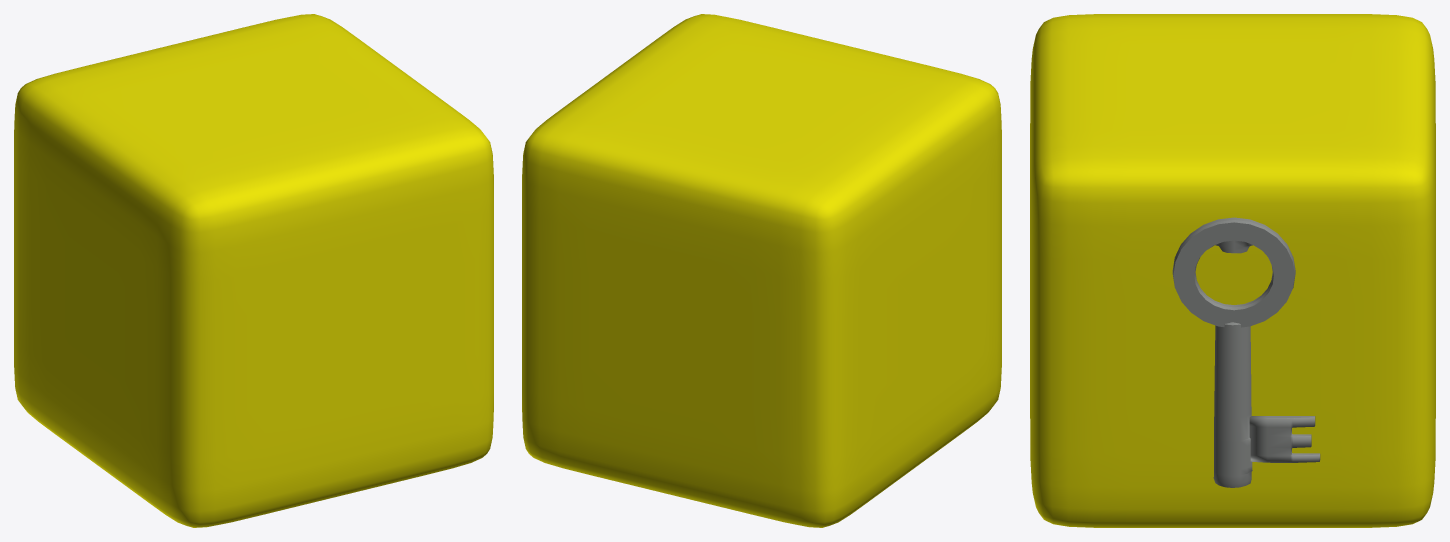
File: keycube.fbx
3 renders of one model, left to right at view 1: azimuth 30°, elevation 25°; view 2: azimuth 150°, elevation 25°; view 3: azimuth 270°, elevation 25°, orthographic. The views are drawn at different scales.
Parts seen in each view (by area): view 1: Cube; view 2: Cube; view 3: Cube.
Boxes of the visible parts, <box> form: Cube: <box>14,14,493,527</box>; Cube: <box>522,14,1001,527</box>; Cube: <box>1030,14,1435,527</box>.
Size of the model in its own units: 1.03 by 1 by 1.
